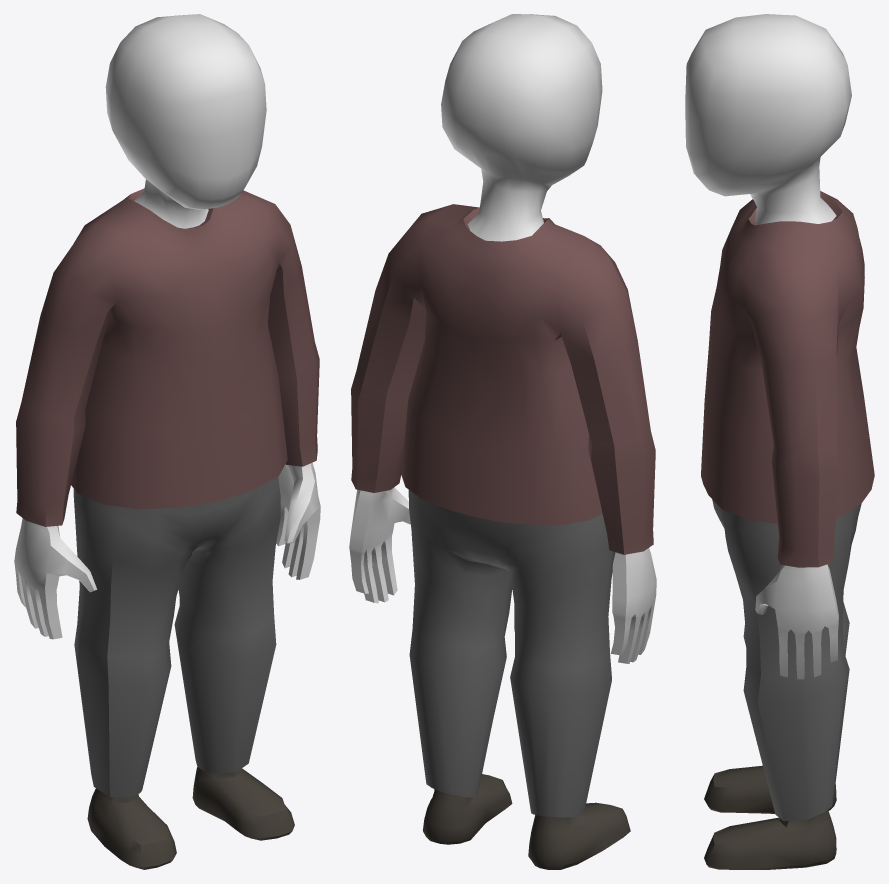
Rendered from Human.fbx.
3 views of the same model, side by side, from view 1: azimuth 30°, elevation 25°; view 2: azimuth 150°, elevation 25°; view 3: azimuth 270°, elevation 25° (orthographic).
Visible parts, largest first — view 1: SweaterShirt, Pants, Human; view 2: SweaterShirt, Pants, Human; view 3: SweaterShirt, Human, Pants.
Boxes of the visible parts, x1,y1,x2,y2 form: SweaterShirt: [16, 188, 319, 526]; Pants: [73, 476, 280, 797]; Human: [14, 14, 320, 869]; SweaterShirt: [351, 204, 655, 554]; Pants: [408, 490, 615, 817]; Human: [349, 14, 656, 869]; SweaterShirt: [701, 191, 874, 567]; Human: [685, 14, 851, 869]; Pants: [712, 499, 861, 821].
Bounding box in the file's own units: 86.82 × 48.73 × 230.
